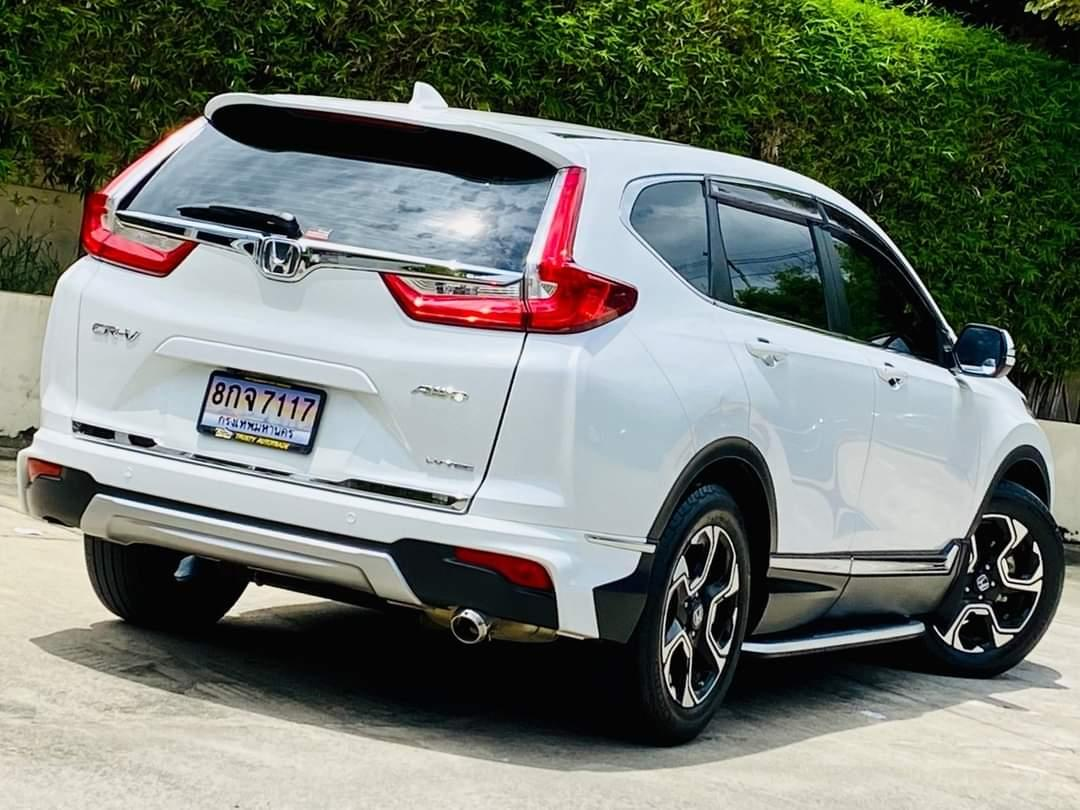license-plate: (193, 359, 330, 461)
